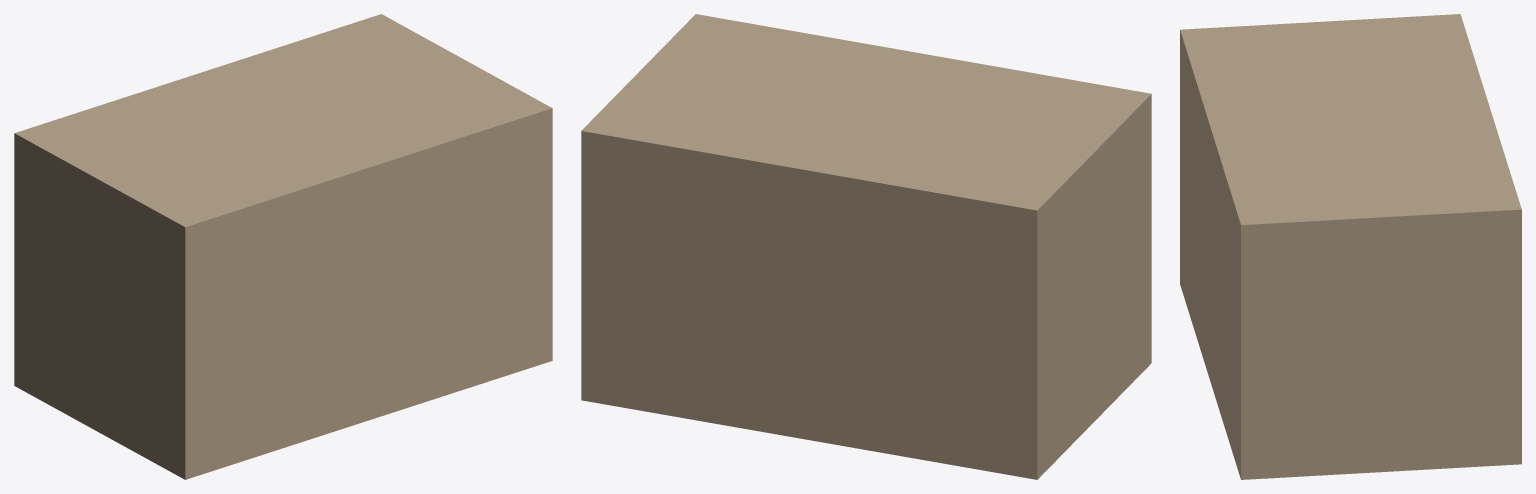
Rendered from bld_109034859.dae.
The picture shows the model from 3 angles, left to right: view 1: azimuth 30°, elevation 25°; view 2: azimuth 150°, elevation 25°; view 3: azimuth 270°, elevation 25°; orthographic projection. The views are drawn at different scales.
Parts seen in each view (by area): view 1: bld_109034859; view 2: bld_109034859; view 3: bld_109034859.
Part boxes in pixels (x1,y1,x2,y2): bld_109034859: (14,14,552,479); bld_109034859: (581,14,1151,479); bld_109034859: (1180,14,1521,479).
Size of the model in its own units: 14.22 by 9.72 by 8.
